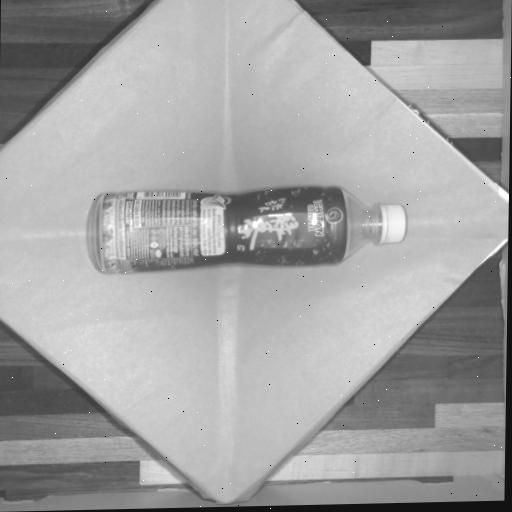bottle: (86, 176, 415, 286)
